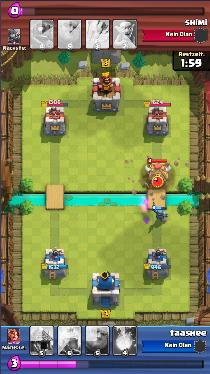ally_mini_pekka: (152, 201, 169, 220)
enemy_goblin_hut: (144, 163, 170, 188)
